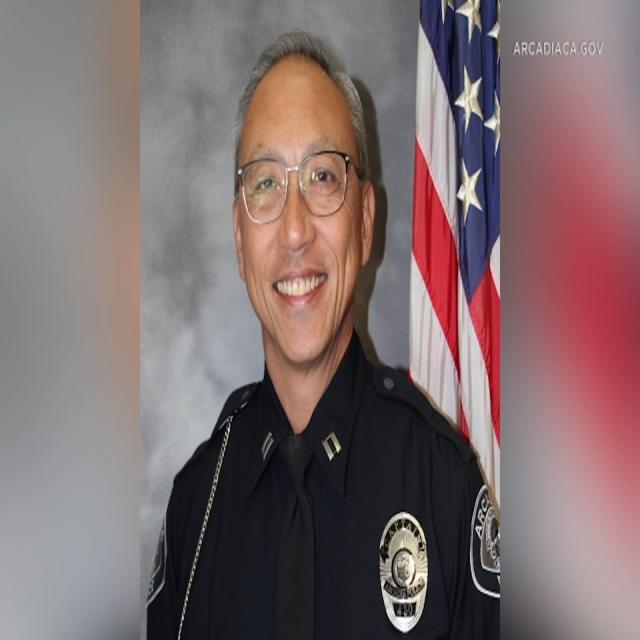police: (132, 3, 503, 640)
